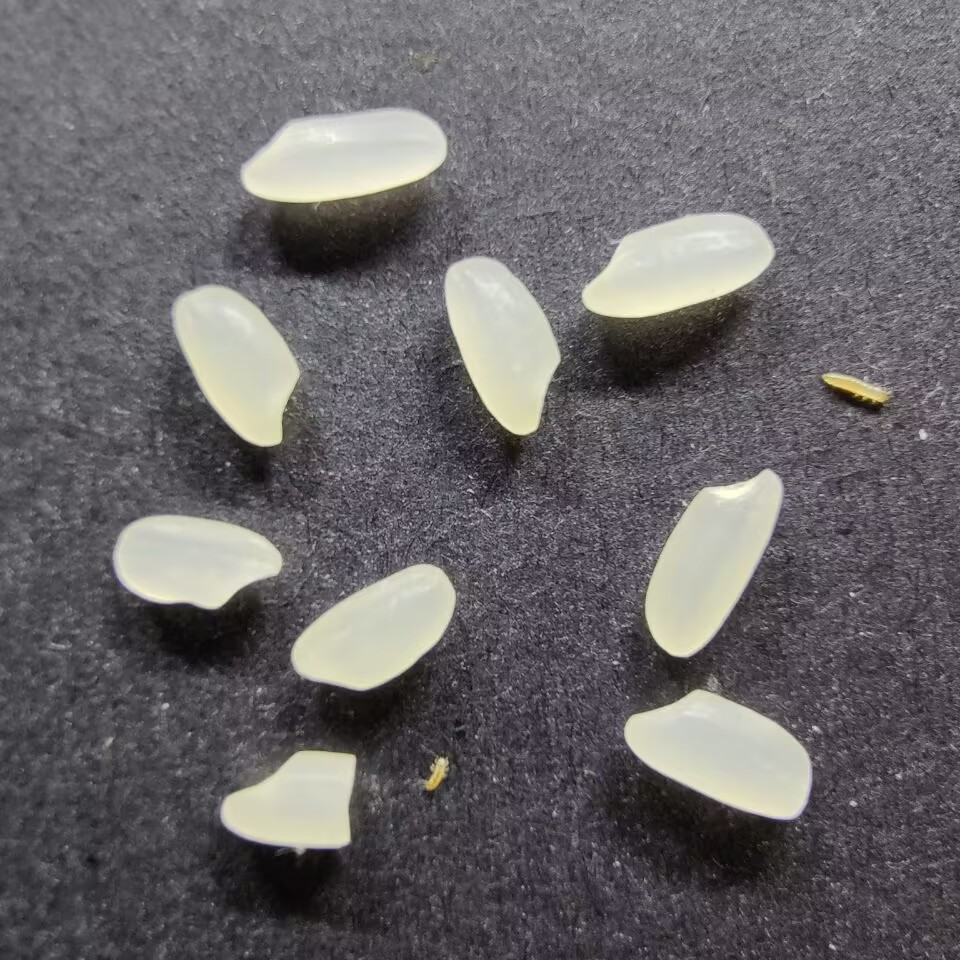broken: (218, 748, 359, 852)
others: (816, 370, 898, 404), (419, 755, 451, 795)
rice: (643, 465, 783, 660), (622, 687, 813, 822), (168, 285, 303, 447), (443, 255, 561, 437), (289, 564, 456, 691), (580, 211, 776, 319), (238, 106, 448, 205), (111, 514, 284, 610)
